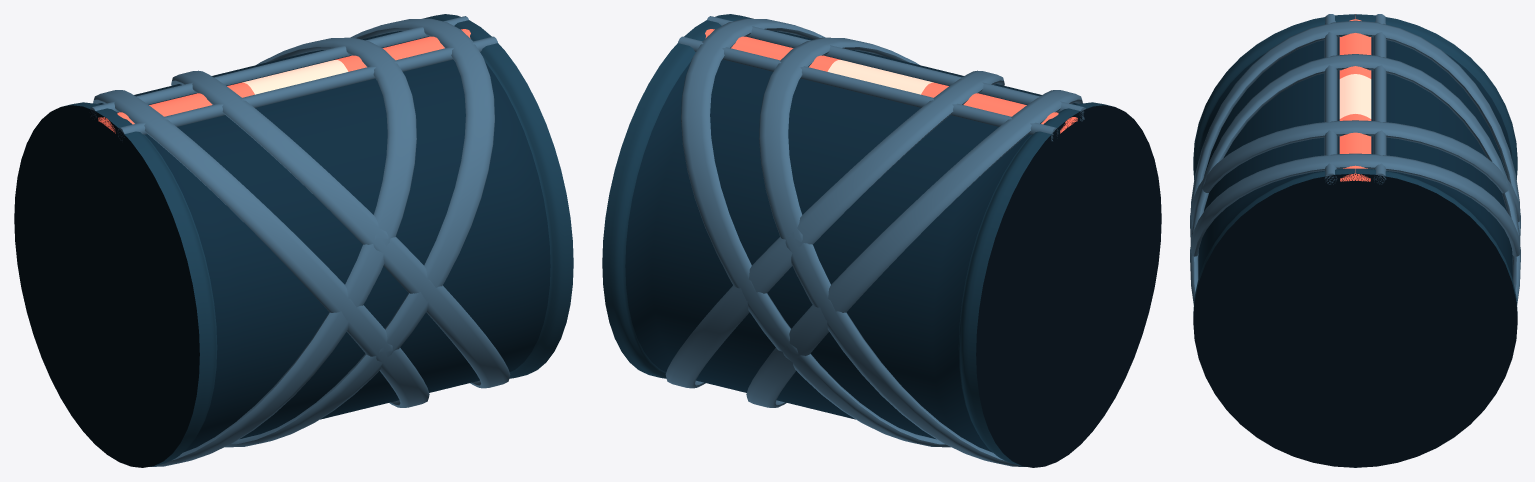
File: maze_pipe_cage.glb
3 renders of one model, left to right at view 1: azimuth 30°, elevation 25°; view 2: azimuth 150°, elevation 25°; view 3: azimuth 270°, elevation 25°, orthographic. The views are drawn at different scales.
Parts seen in each view (by area): view 1: pipe, hoop3, hoop1, hoop2, hoop0, band, rail-1, rail1; view 2: pipe, hoop3, hoop1, hoop2, hoop0, band, rail1, rail-1; view 3: pipe, hoop0, hoop2, hoop3, hoop1, band, rail-1, rail1.
Part boxes in pixels (box(x1,y1,x2,y2)): pipe: box(14, 14, 573, 467); hoop3: box(225, 18, 494, 447); hoop1: box(150, 37, 416, 466); hoop2: box(93, 90, 429, 407); hoop0: box(171, 70, 510, 388); band: box(98, 29, 470, 133); rail-1: box(117, 36, 497, 140); rail1: box(90, 16, 468, 119); pipe: box(602, 14, 1161, 467); hoop3: box(681, 18, 950, 447); hoop1: box(759, 37, 1025, 466); hoop2: box(746, 90, 1082, 407); hoop0: box(665, 70, 1004, 388); band: box(705, 29, 1077, 133); rail1: box(678, 36, 1058, 141); rail-1: box(707, 16, 1085, 121); pipe: box(1193, 14, 1517, 467); hoop0: box(1190, 54, 1520, 467); hoop2: box(1190, 20, 1520, 242); hoop3: box(1190, 153, 1520, 261); hoop1: box(1190, 120, 1520, 225); band: box(1339, 14, 1371, 181); rail-1: box(1324, 14, 1337, 184); rail1: box(1373, 14, 1386, 184).
Bounding box in the file's own units: 24 × 21.02 × 21.02.
